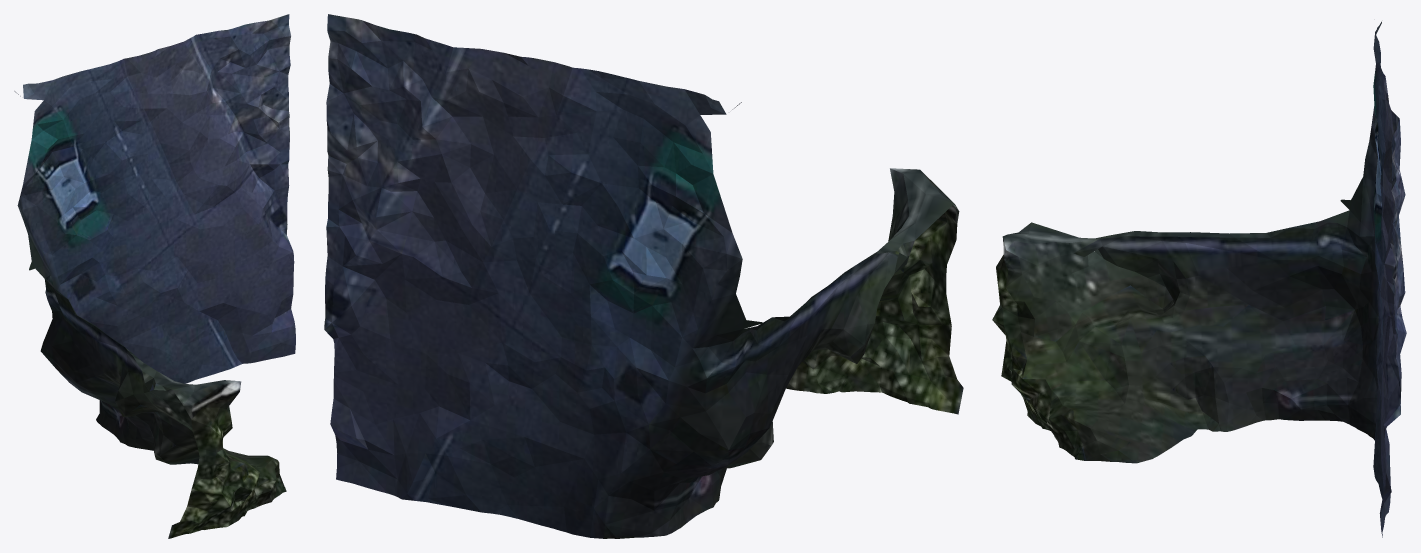
The model's file is tile_4_0_4_tex.obj.
3 views of the same model, side by side, from view 1: azimuth 30°, elevation 25°; view 2: azimuth 150°, elevation 25°; view 3: azimuth 270°, elevation 25° (orthographic). The views are drawn at different scales.
Parts seen in each view (by area): view 1: obj_0; view 2: obj_0; view 3: obj_0.
Boxes of the visible parts, x1,y1,x2,y2 form: obj_0: [14, 14, 295, 538]; obj_0: [324, 14, 963, 538]; obj_0: [992, 21, 1406, 537].
Size of the model in its own units: 10.02 by 11.27 by 11.41.
Materials: 1 (1 with a texture image).
